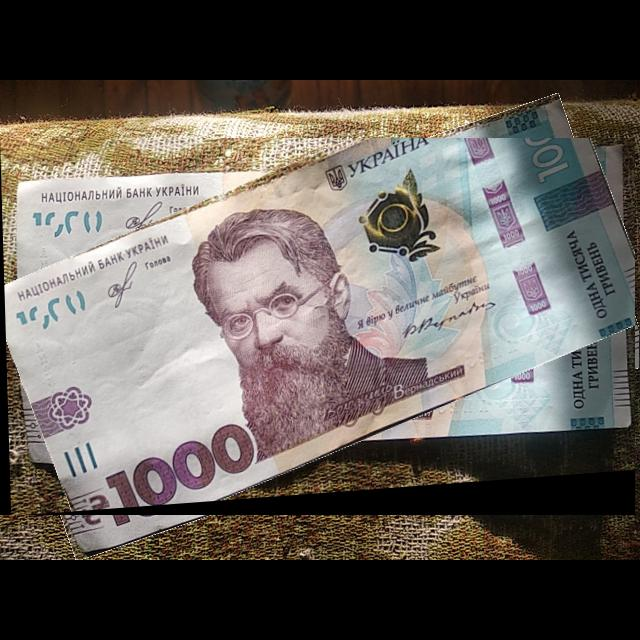1000uah: (0, 138, 636, 516)
